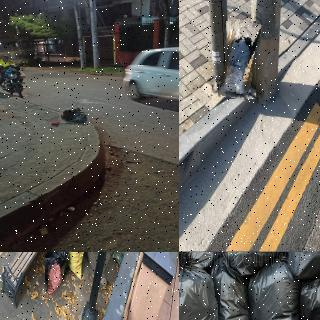Garbage: (247, 256, 303, 320), (209, 256, 258, 320), (222, 21, 260, 101), (179, 253, 223, 320), (221, 252, 294, 277), (43, 257, 64, 298), (59, 104, 91, 125), (48, 252, 70, 280), (66, 252, 86, 279)
